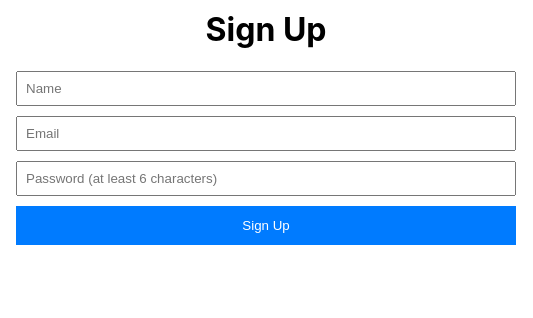
Test: show error if the password is short
Step 1. Type "Sara" into the field with placeholder "Name" → (266, 88), box [16,71,516,106]
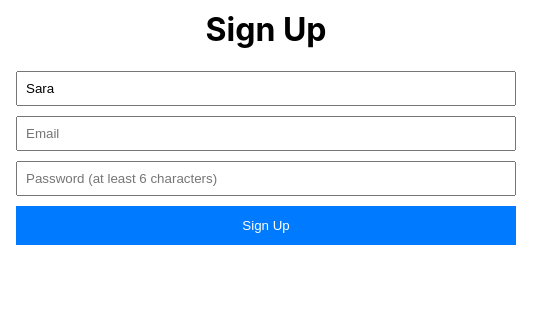
Step 2. Type "sara@test.com" into the field with placeholder "Email" → (266, 133), box [16,116,516,151]
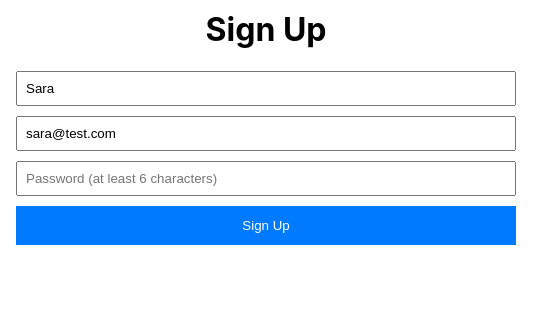
Step 3. Type "123" into the password field with placeholder "Password (at least 6 characters)" → (266, 178), box [16,161,516,196]
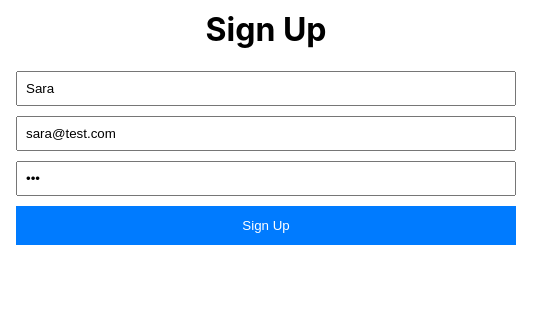
Step 4. Click the button "Sign Up" → (266, 225), box [16,206,516,245]
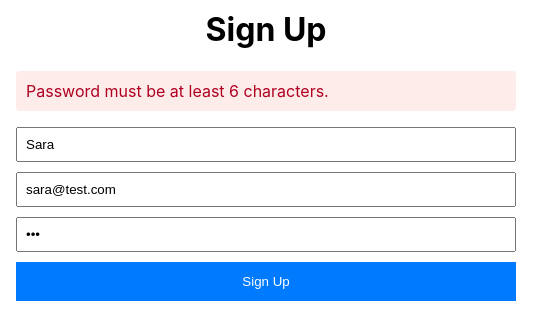
Expected: the text "Password must be at least 6 characters." is shown, [16,71,516,111]
